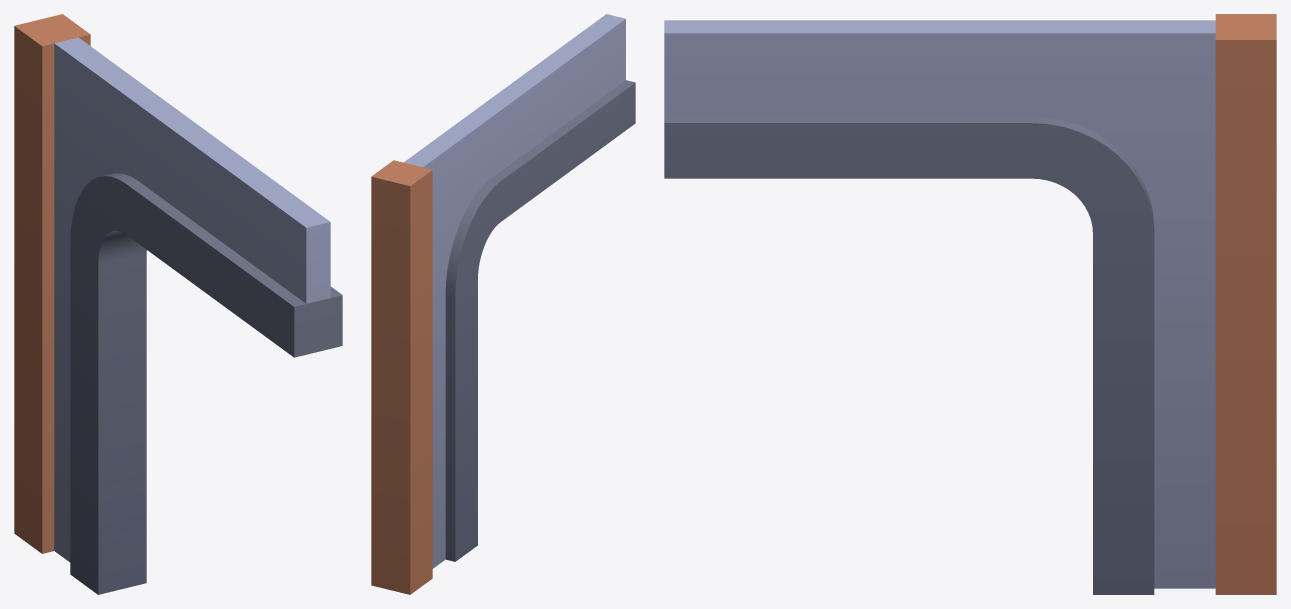
The model's file is wall-doorway-square-wide-curved.glb.
3 views of the same model, side by side, from view 1: azimuth 30°, elevation 25°; view 2: azimuth 150°, elevation 25°; view 3: azimuth 270°, elevation 25° (orthographic). The views are drawn at different scales.
Parts seen in each view (by area): view 1: wall-doorway-square-wide-curved; view 2: wall-doorway-square-wide-curved; view 3: wall-doorway-square-wide-curved.
Boxes of the visible parts, x1,y1,x2,y2 form: wall-doorway-square-wide-curved: [14, 14, 342, 594]; wall-doorway-square-wide-curved: [371, 14, 635, 594]; wall-doorway-square-wide-curved: [664, 14, 1276, 594].
Bounding box in the file's own units: 0.1 × 1 × 1.
Materials: 1 (1 with a texture image).
